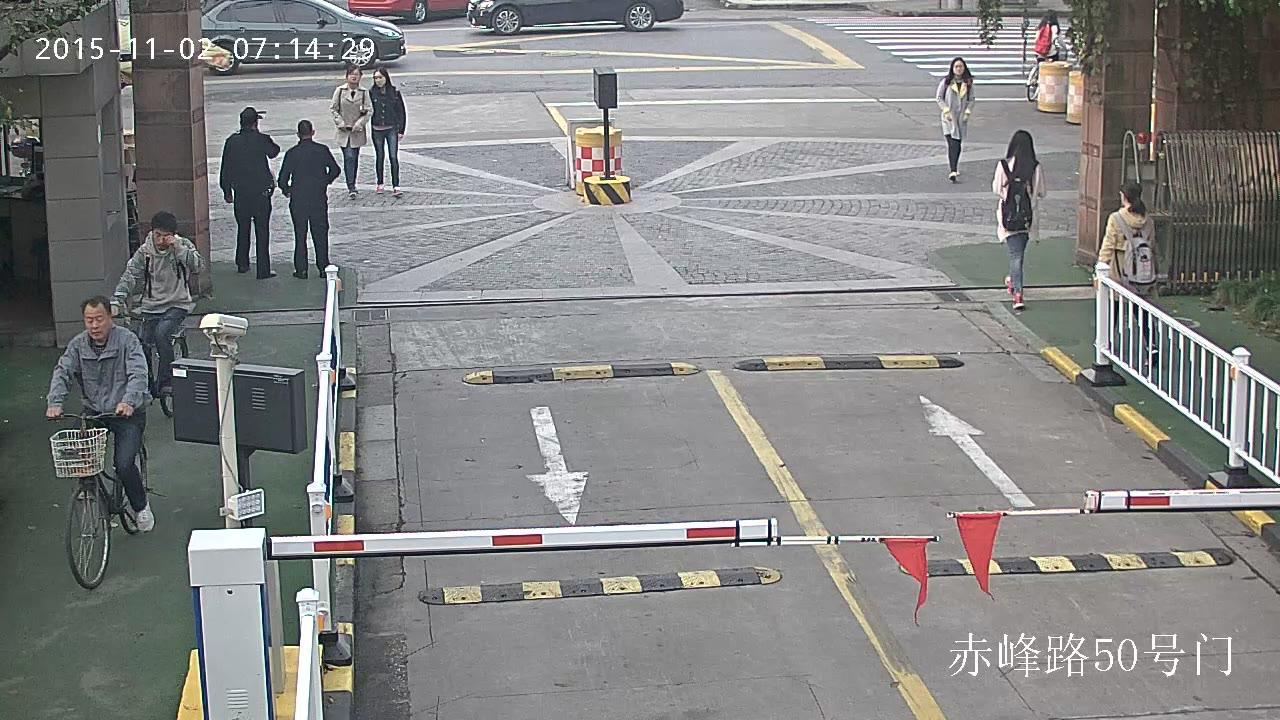person: (44, 293, 157, 590), (45, 294, 157, 534), (107, 210, 206, 419), (109, 210, 206, 397), (1094, 180, 1160, 355), (276, 118, 341, 279), (219, 106, 280, 277), (991, 129, 1046, 309), (329, 64, 374, 199), (360, 66, 406, 194), (935, 56, 975, 183), (1025, 7, 1066, 101), (1031, 8, 1060, 72)
